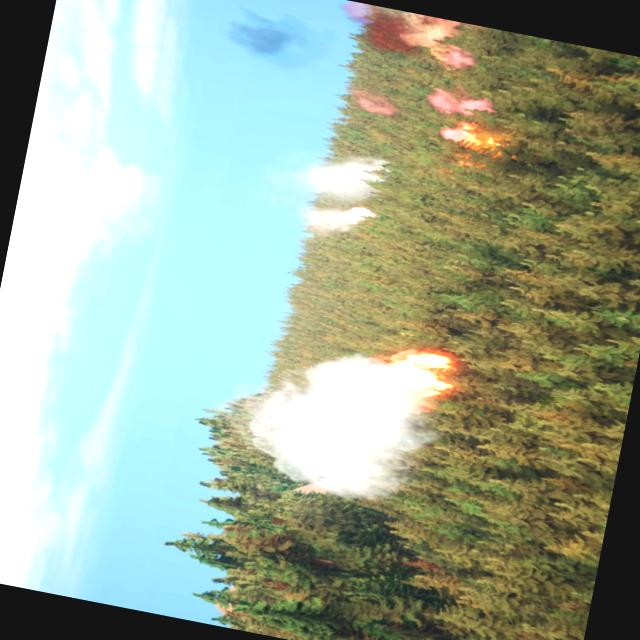fire: (378, 338, 464, 410), (436, 116, 502, 164)
smoke: (240, 336, 448, 520), (272, 137, 394, 249), (334, 0, 492, 75), (211, 0, 322, 69), (421, 82, 496, 118), (339, 82, 392, 118)
